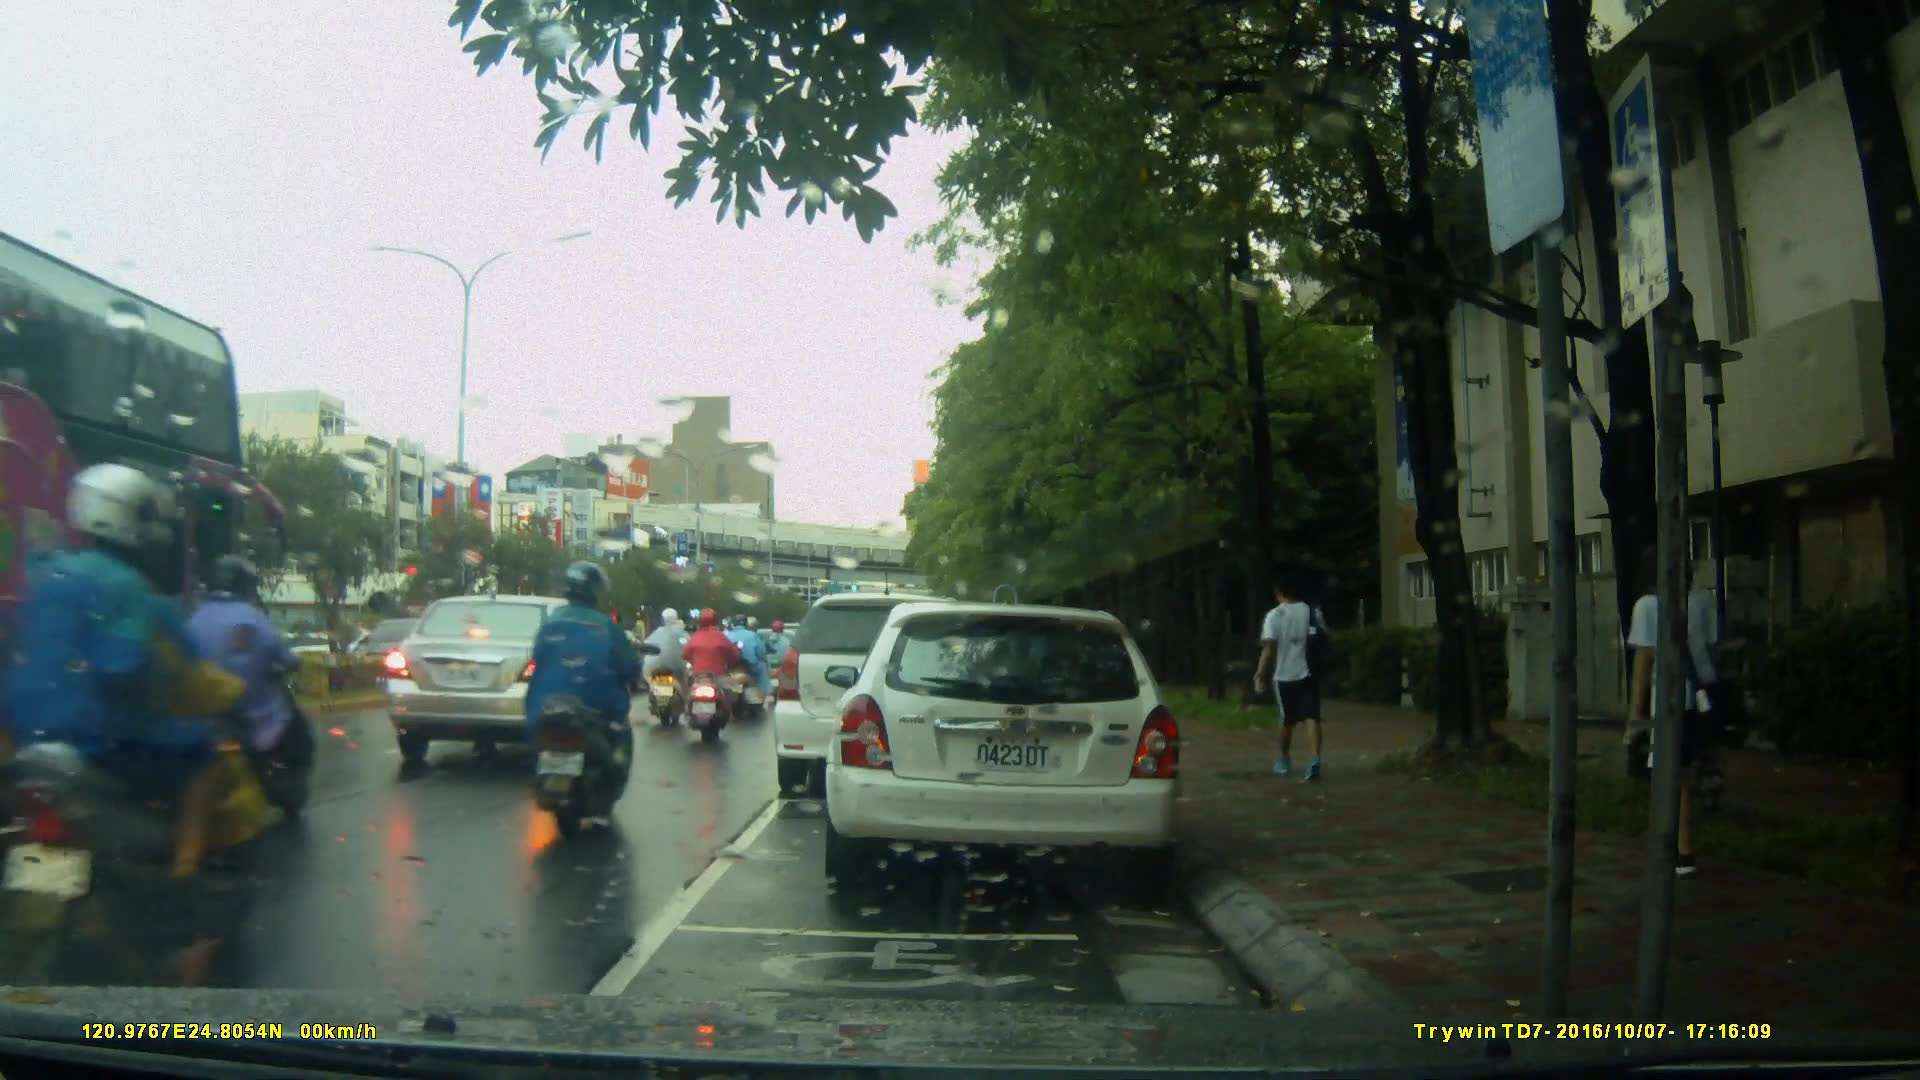pedestrian: (145, 553, 315, 825), (1609, 534, 1728, 886), (1255, 559, 1353, 800)
rider: (1, 467, 283, 1050), (519, 560, 642, 838), (678, 605, 742, 747), (639, 603, 694, 731), (721, 612, 769, 712), (760, 618, 796, 710)
vehicle: (10, 215, 270, 904), (811, 604, 1188, 882), (774, 595, 995, 802), (386, 591, 643, 767)
